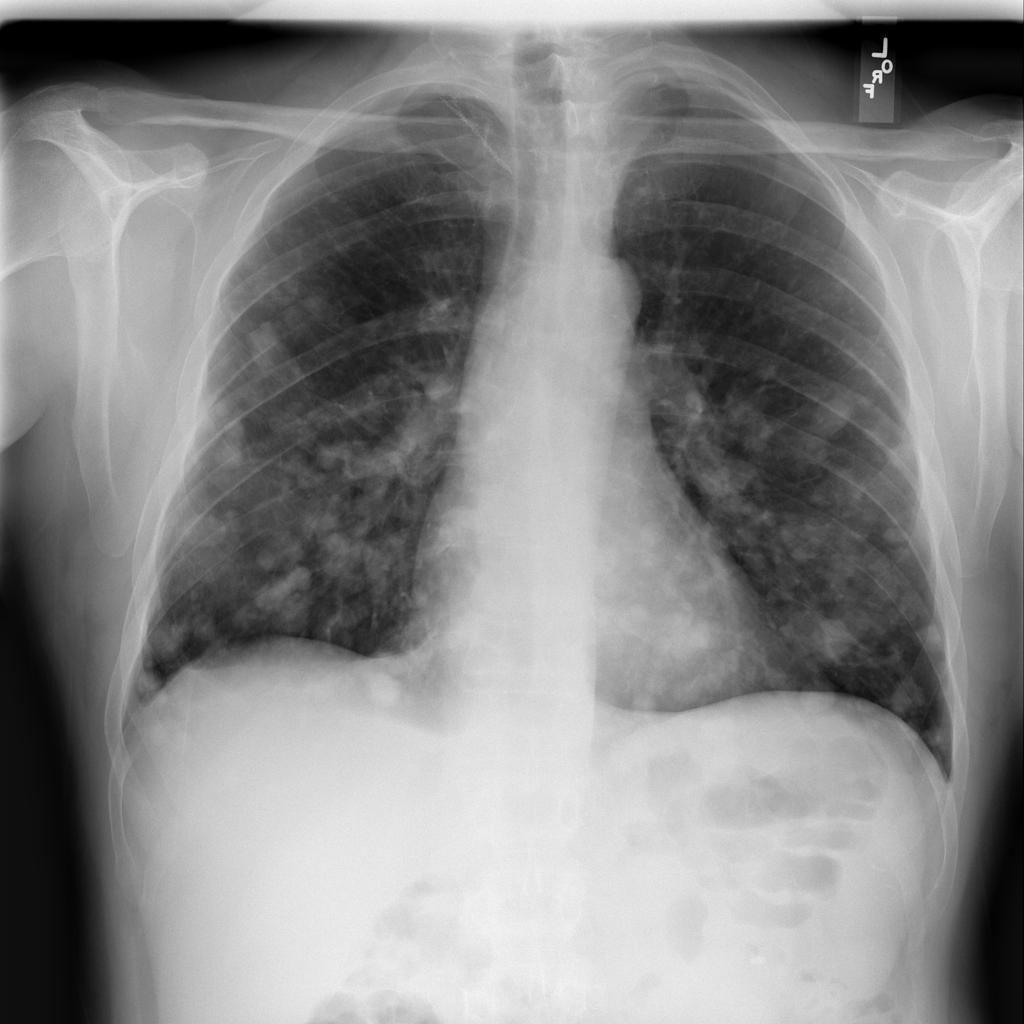nodule: (645, 593, 726, 669), (238, 556, 319, 627), (232, 310, 302, 390), (792, 601, 870, 669), (166, 493, 240, 563), (347, 655, 423, 723), (797, 380, 866, 451), (288, 273, 339, 324), (743, 652, 799, 698), (207, 430, 257, 480), (871, 516, 921, 566), (193, 380, 242, 431), (890, 686, 943, 733), (908, 609, 958, 658)
